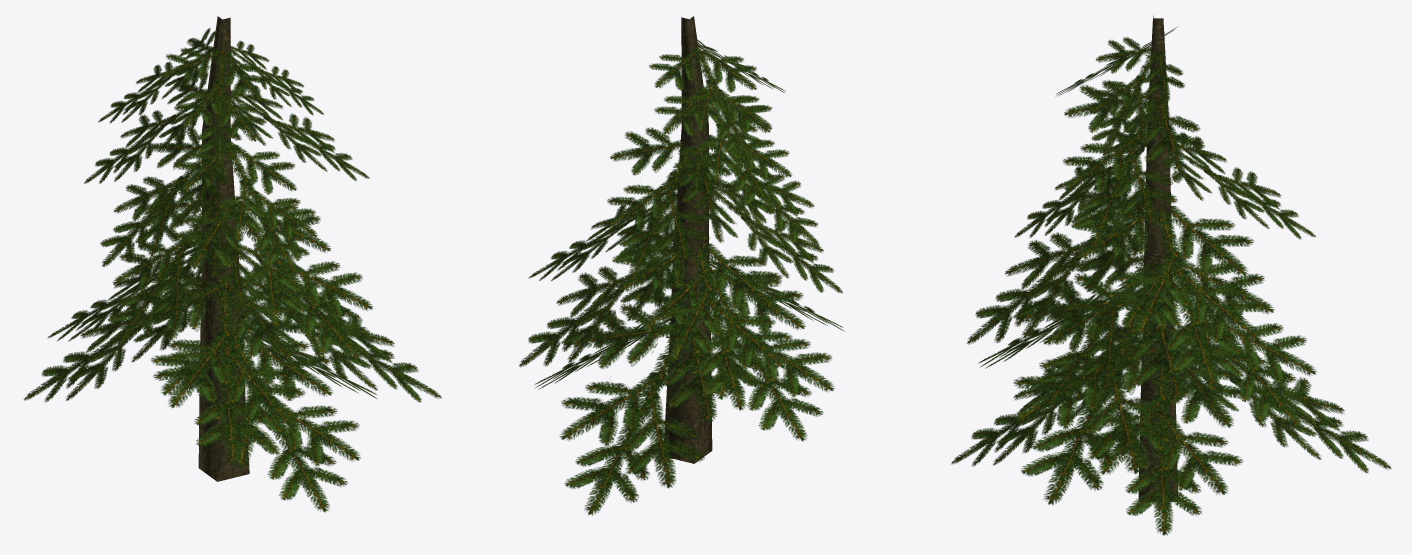
File: treeMod1_LOD170.glb
3 views of the same model, side by side, from view 1: azimuth 30°, elevation 25°; view 2: azimuth 150°, elevation 25°; view 3: azimuth 270°, elevation 25° (orthographic). The views are drawn at different scales.
Visible parts, largest first — view 1: tree_1.png__, wooden.jpg__; view 2: tree_1.png__, wooden.jpg__; view 3: tree_1.png__, wooden.jpg__.
Boxes of the visible parts, <box> form: tree_1.png__: <box>23,28,441,512</box>; wooden.jpg__: <box>198,16,249,481</box>; tree_1.png__: <box>519,39,844,515</box>; wooden.jpg__: <box>664,16,712,463</box>; tree_1.png__: <box>951,27,1391,535</box>; wooden.jpg__: <box>1138,15,1177,501</box>.
Bounding box in the file's own units: 10.19 × 10.74 × 9.56.
Materials: 2 (2 with a texture image).
